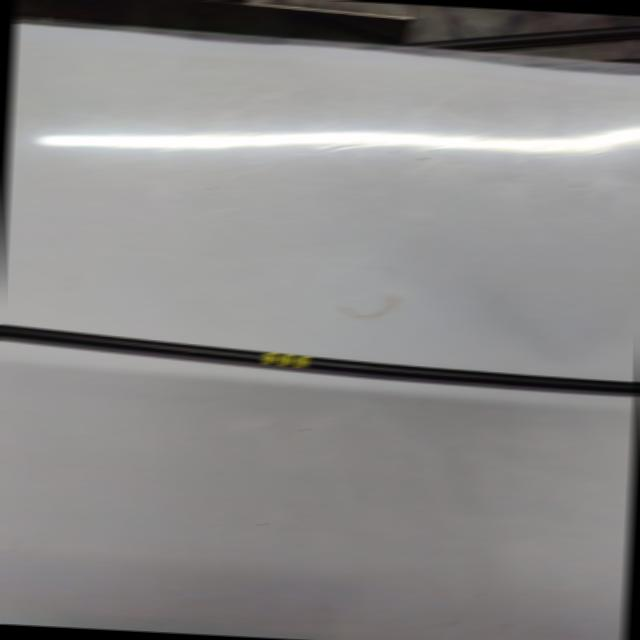yellow: (263, 351, 310, 368)
